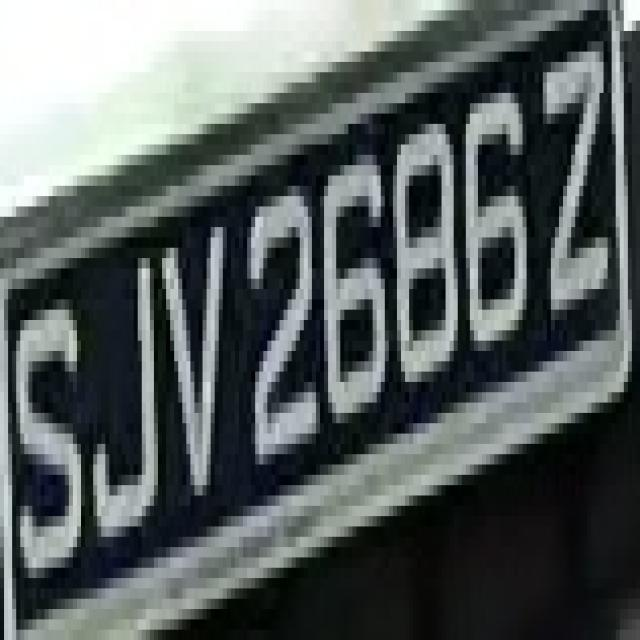2: (223, 165, 320, 506)
6: (308, 113, 389, 464), (450, 82, 534, 402)
8: (389, 114, 470, 423)
J: (81, 227, 166, 568)
S: (8, 268, 85, 630)
V: (158, 196, 235, 516)
Z: (534, 10, 624, 351)
